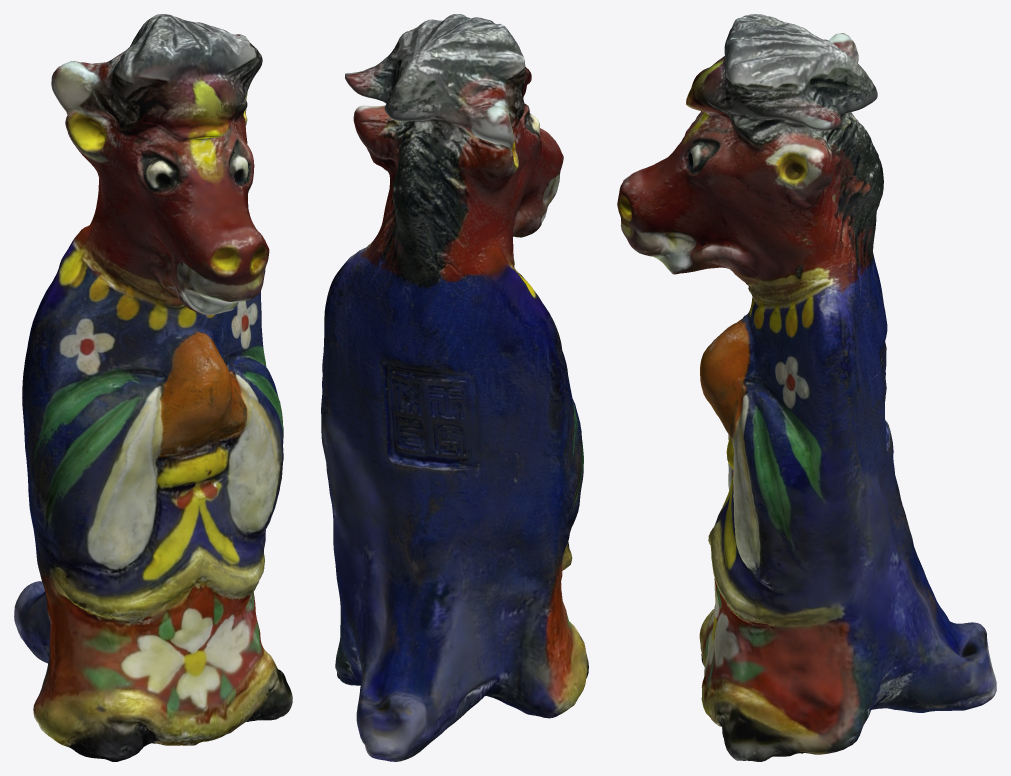
3 renders of one model, left to right at view 1: azimuth 30°, elevation 25°; view 2: azimuth 150°, elevation 25°; view 3: azimuth 270°, elevation 25°, orthographic. The views are drawn at different scales.
Size of the model in its own units: 0.1459 by 0.3913 by 0.1944.
1 material, 1 textured.
